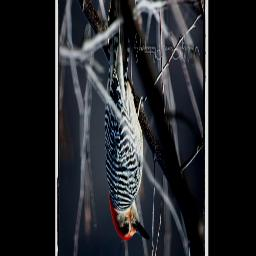Woodpecker: (102, 25, 153, 253)
